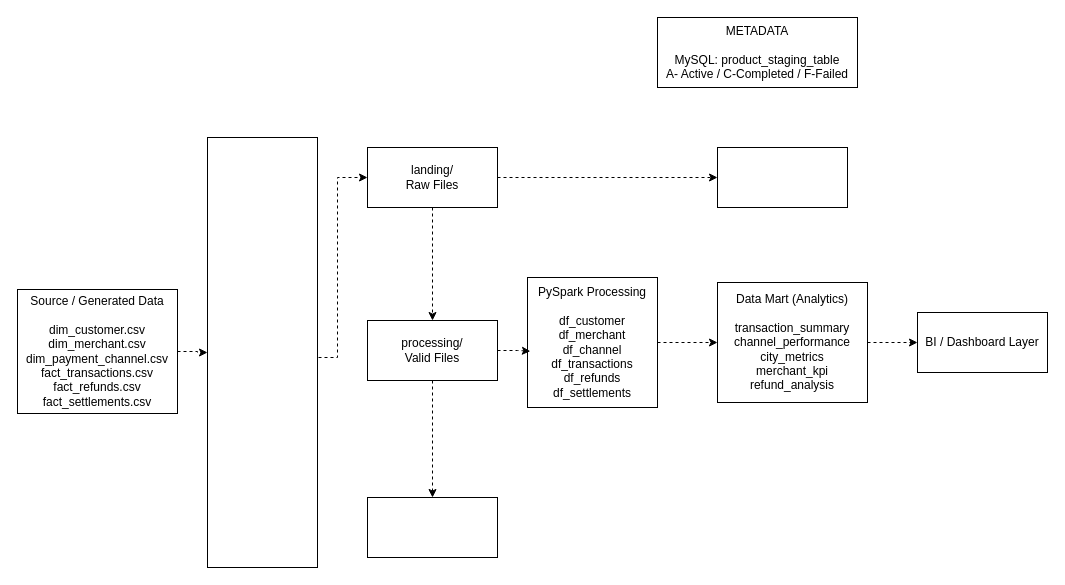
This 1065x585 diagram has some shape labels left out. Each missing label, with the centre of its shape:
"AWS S3 DATA LAKE" goes at (x=262, y=352).
"failed/ Invalid Files" goes at (x=782, y=177).
"processed/ Final Files" goes at (x=432, y=527).
